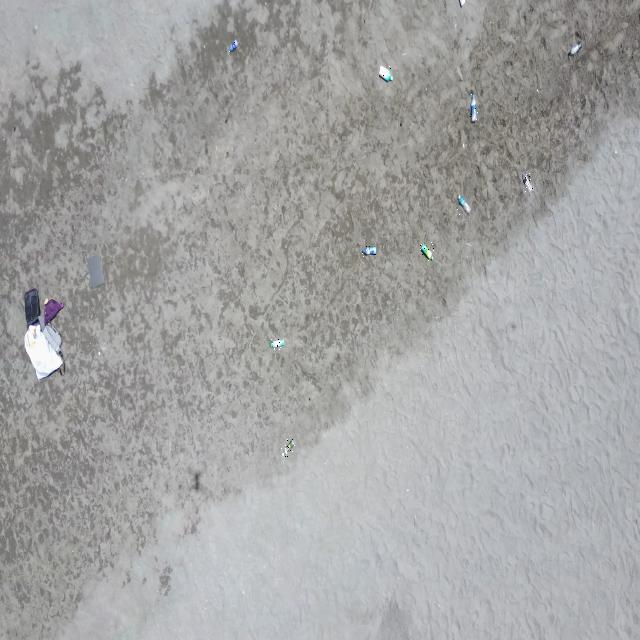Garbage: (24, 288, 63, 377), (24, 324, 62, 379), (24, 289, 39, 324), (42, 324, 60, 353), (44, 299, 63, 324), (88, 256, 103, 287), (567, 39, 582, 55), (520, 172, 531, 192), (468, 91, 475, 121), (280, 439, 293, 455), (457, 195, 469, 212), (420, 243, 432, 259), (379, 65, 391, 80), (227, 39, 238, 52), (360, 246, 375, 255), (268, 339, 283, 346), (32, 24, 37, 32), (459, 0, 464, 5), (55, 332, 57, 336), (44, 326, 48, 327)
